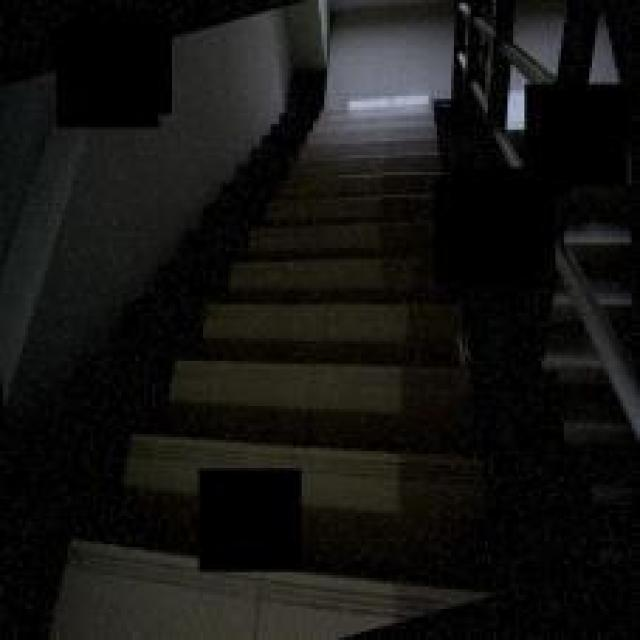downstair: (246, 137, 404, 461)
